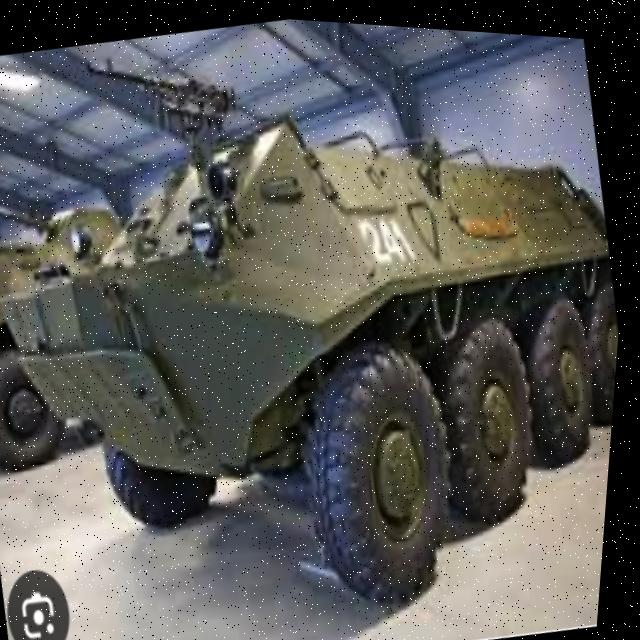MIL_APC: (0, 1, 640, 640)
